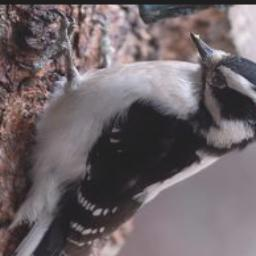Woodpecker: (0, 26, 256, 256)
